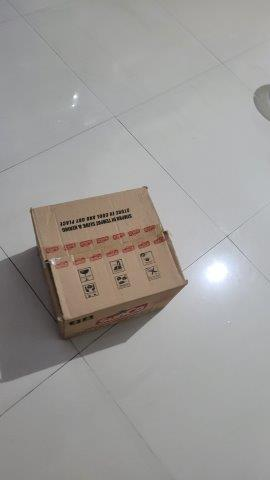kardus: (32, 186, 188, 340)
